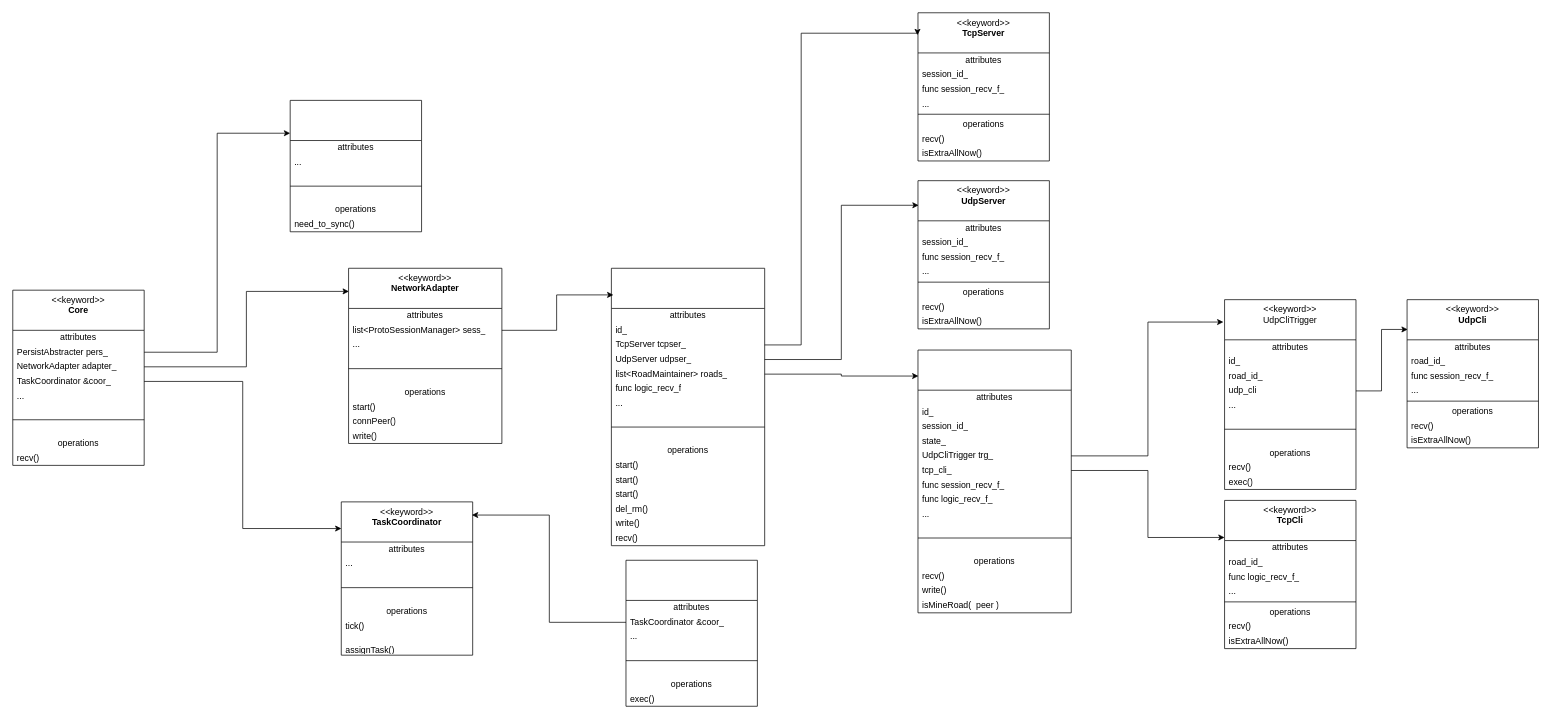
Image size: 1551x719. Some labels were removed from this diagram. The box of each missing label's shape, as (x1, y1, x2, y2) in pixels:
<<keyword>> PersistAbstracter: (289, 100, 422, 232)
<<keyword>> ProtoSessionManager: (611, 268, 765, 546)
<<keyword>> RoadMaintainer: (917, 349, 1071, 613)
<<keyword>> TaskCoordinatorTrigger: (625, 560, 757, 706)
